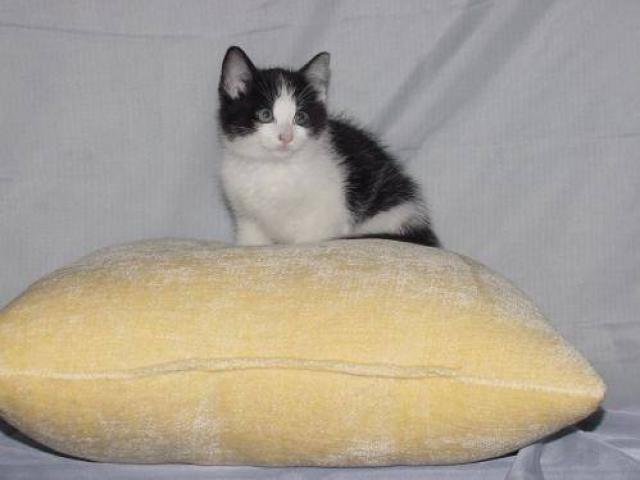cat: (217, 40, 447, 256)
